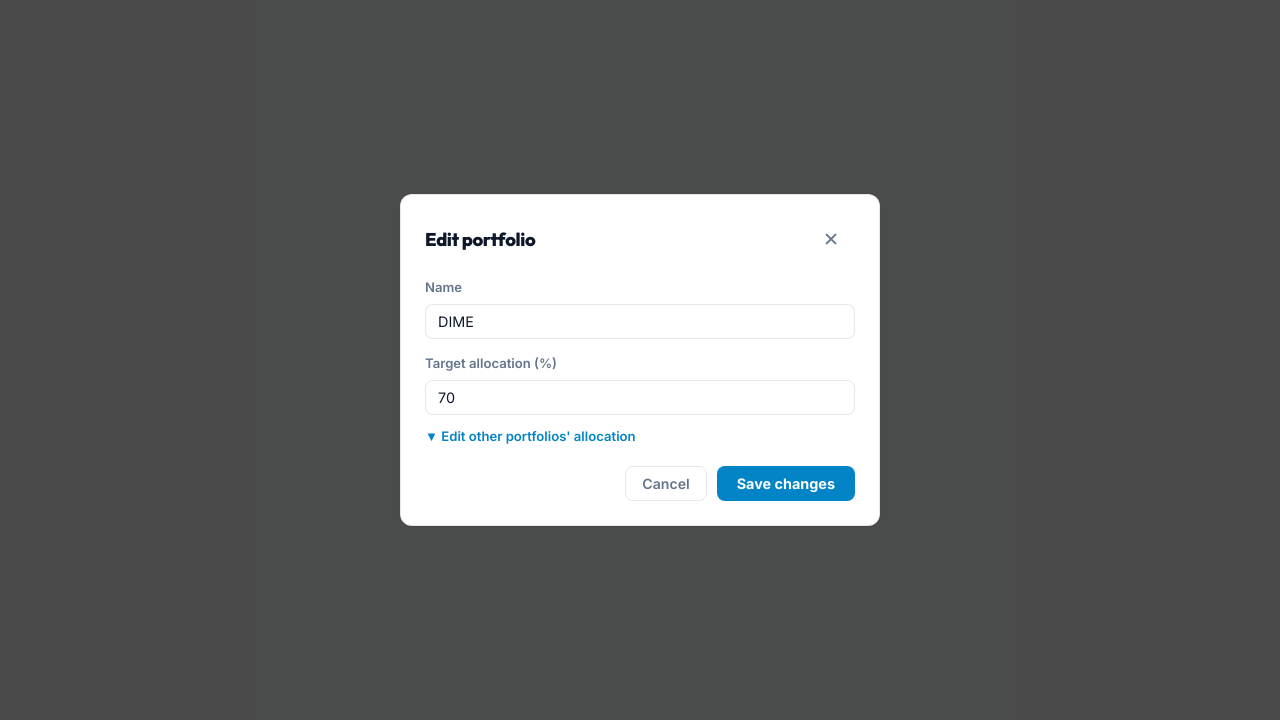
EditPortfolioModal › running total turns invalid when it no longer sums to 100 and blocks save
Click the button "▼ Edit other portfolios' allocation": (530, 436) top-left (425, 428), bottom-right (636, 444)
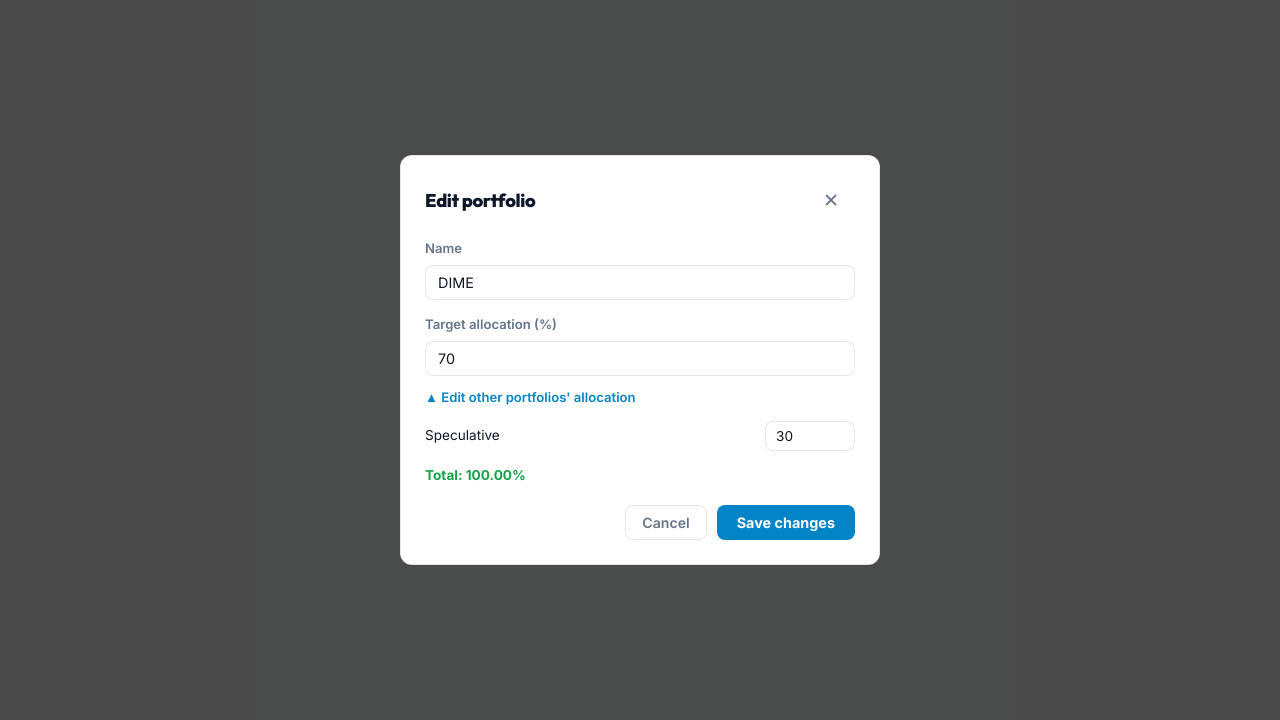
Replace the text in the number field labelled "Speculative" with "20": (810, 436) top-left (765, 421), bottom-right (855, 451)
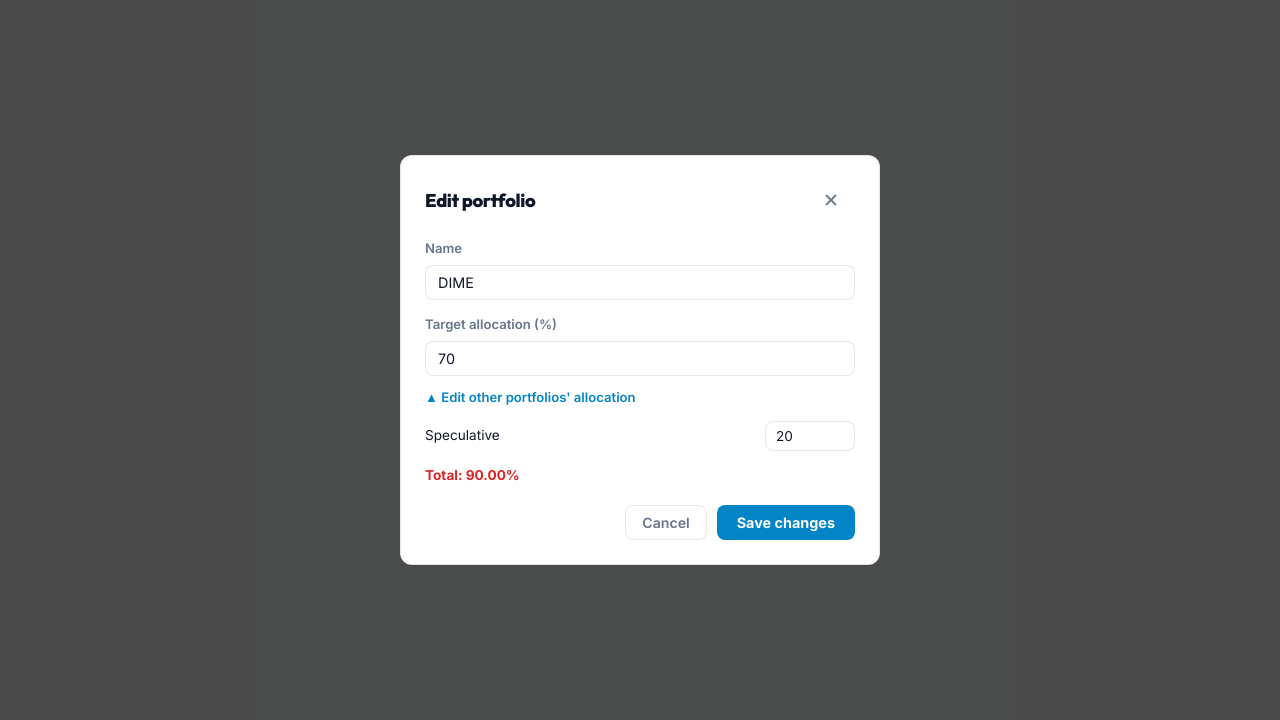
Result: the message reads "Total: 90.00%" at top-left (425, 467), bottom-right (520, 483)
Click the button "Save changes": (786, 522) top-left (717, 505), bottom-right (855, 540)
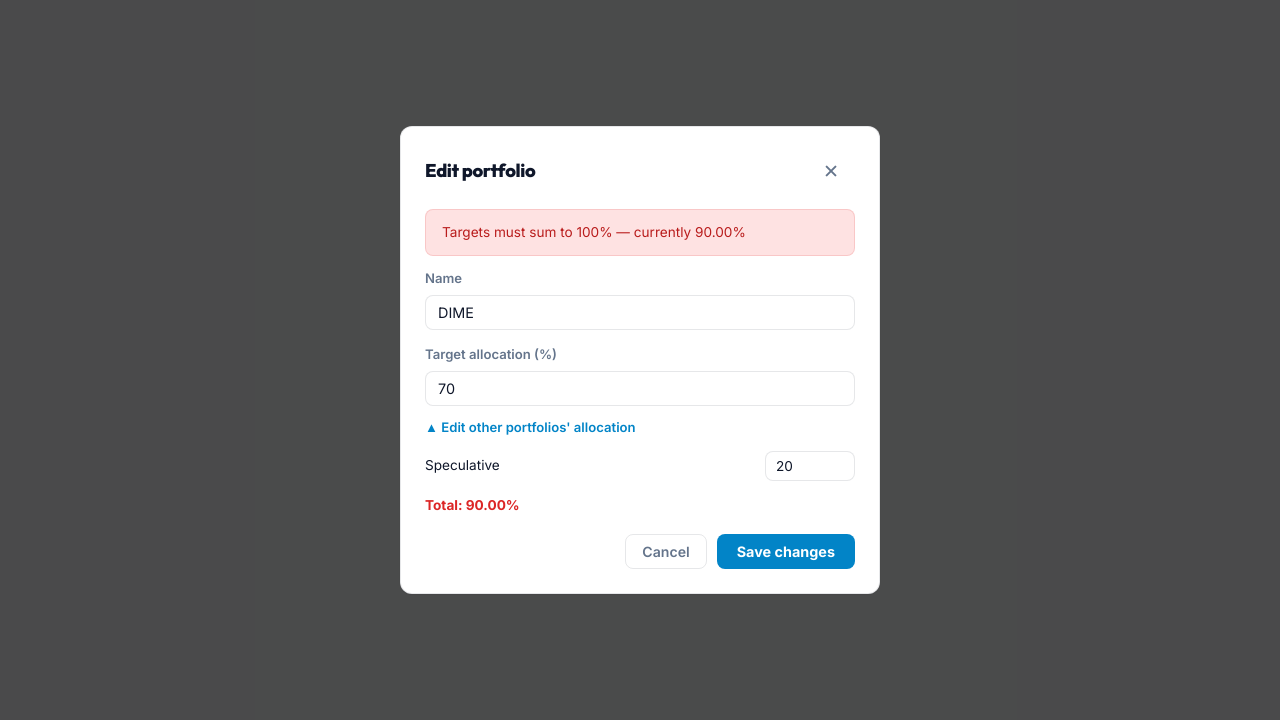
Result: the message "Targets must sum to 100% — currently 90.00%" is shown at top-left (425, 208), bottom-right (855, 256)
